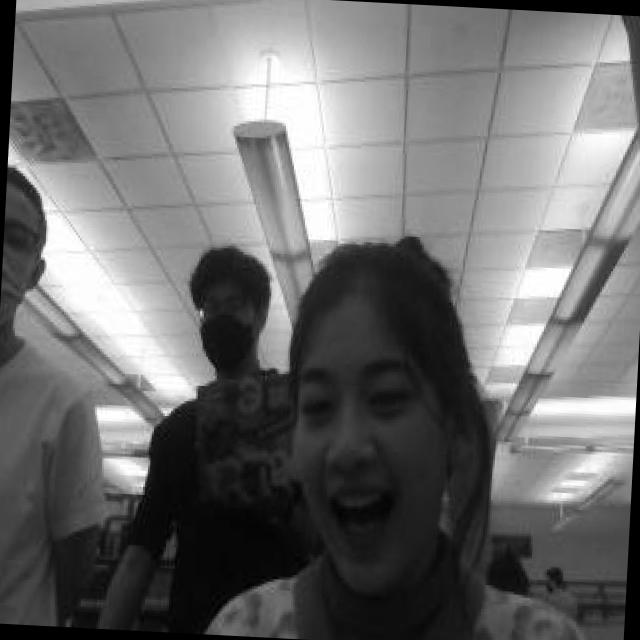Focused: (275, 309, 447, 597)
